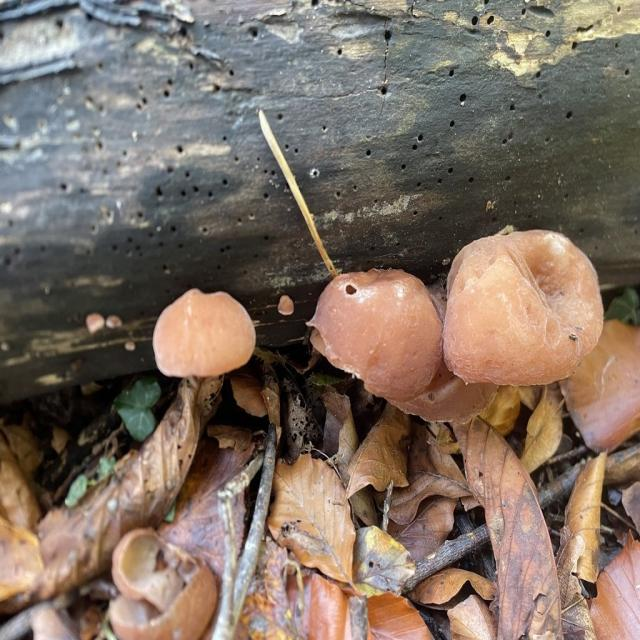Fase Muda: (152, 286, 263, 384)
Matang: (442, 221, 608, 382), (309, 262, 445, 401)
primordia: (276, 291, 296, 320), (85, 309, 106, 336), (107, 314, 126, 334)
